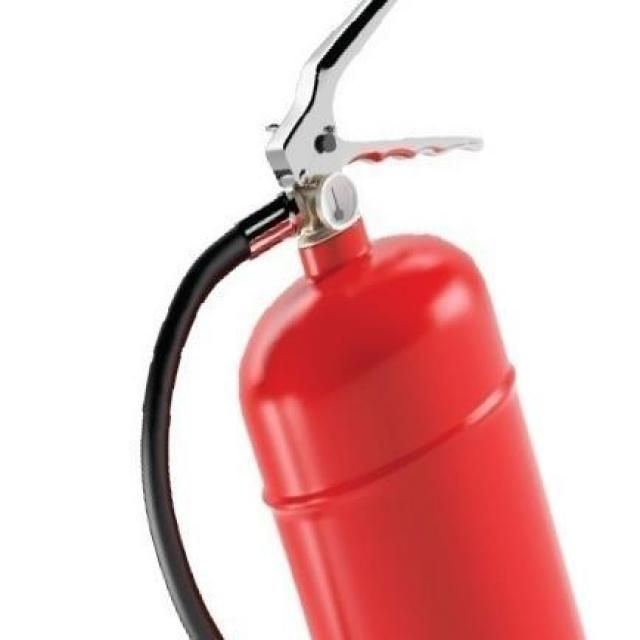fire_extinguisher: (130, 0, 601, 639)
